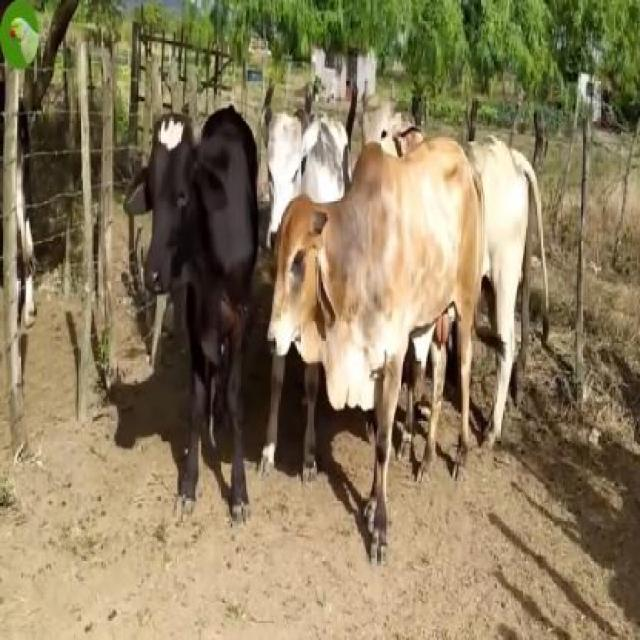Cow: (268, 138, 483, 572), (143, 106, 259, 523), (255, 111, 351, 238)
